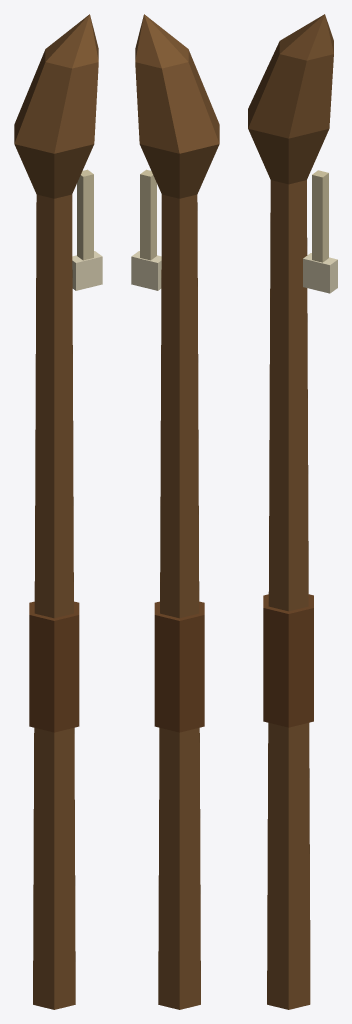
Rendered from WoodenStaff.obj.
3 renders of one model, left to right at view 1: azimuth 30°, elevation 25°; view 2: azimuth 150°, elevation 25°; view 3: azimuth 330°, elevation 25°, orthographic.
Parts seen in each view (by area): view 1: Shaft; view 2: Shaft; view 3: Shaft.
Boxes of the visible parts, bbox=[...] form: Shaft: bbox=[14, 14, 102, 1009]; Shaft: bbox=[131, 14, 219, 1009]; Shaft: bbox=[248, 14, 337, 1009].
Size of the model in its own units: 0.095 by 1.05 by 0.0779.
